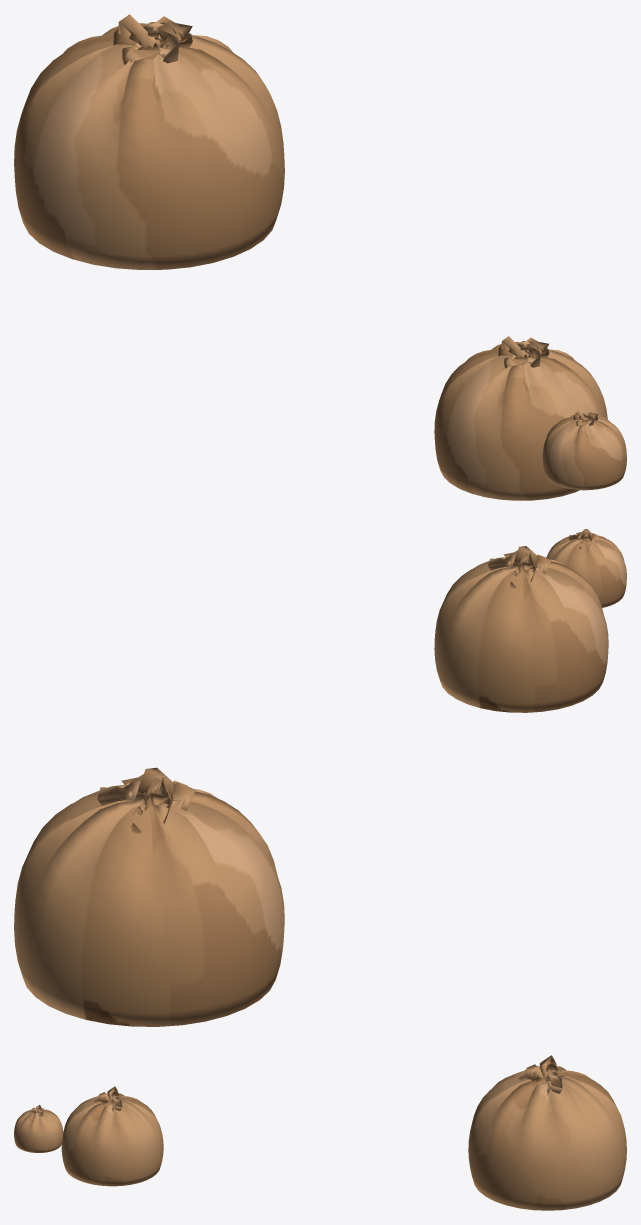
The model's file is Sacks.glb.
3 views of the same model, one above another, from view 1: azimuth 30°, elevation 25°; view 2: azimuth 150°, elevation 25°; view 3: azimuth 270°, elevation 25° (orthographic). The views are drawn at different scales.
Parts seen in each view (by area): view 1: bigsack, midsack, smallsack; view 2: bigsack, midsack, smallsack; view 3: bigsack, midsack, smallsack.
Boxes of the visible parts, x1,y1,x2,y2 form: bigsack: (14,14,284,269); midsack: (434,336,607,500); smallsack: (542,410,626,490); bigsack: (14,767,284,1026); midsack: (434,546,608,712); smallsack: (546,529,626,607); bigsack: (468,1055,626,1210); midsack: (61,1086,163,1186); smallsack: (14,1105,63,1152).
Bounding box in the file's own units: 0.624 × 0.516 × 2.41.
Materials: 1 (1 with a texture image).
